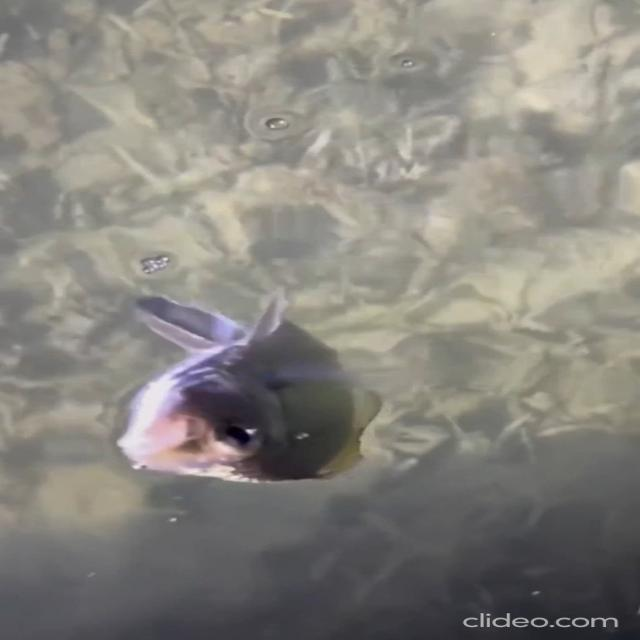fish: (120, 270, 397, 498)
